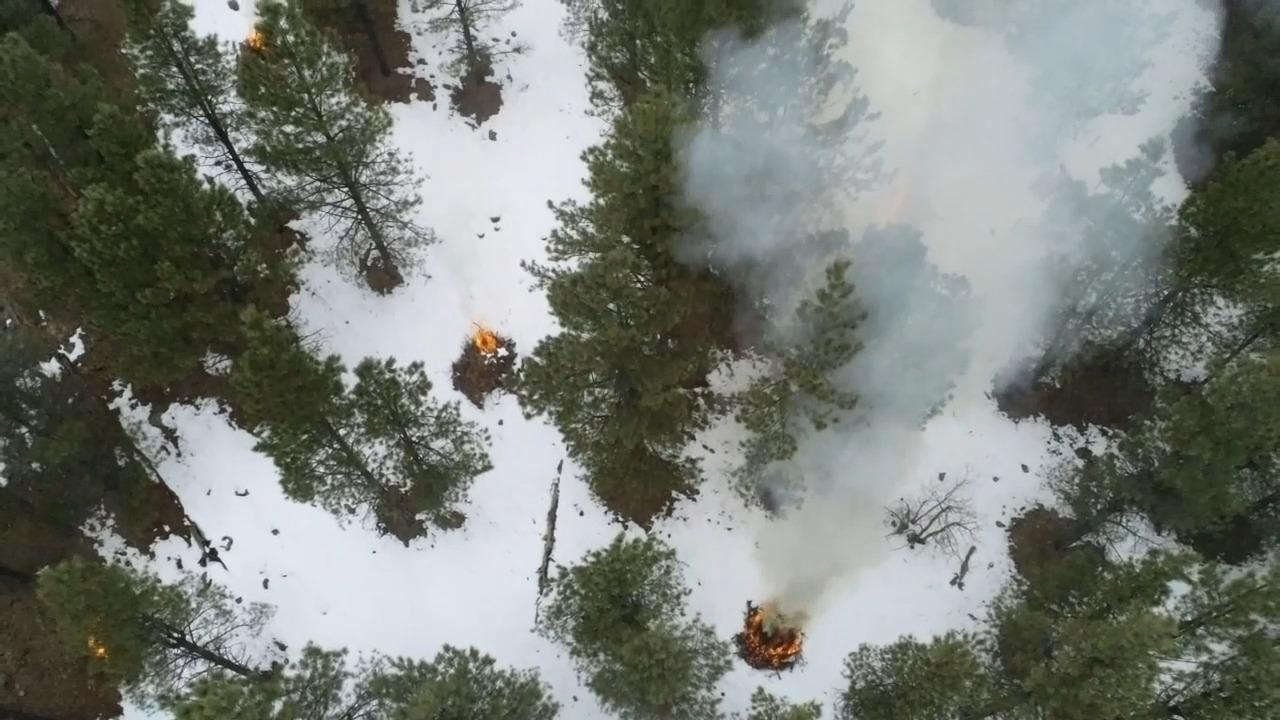fire: (734, 585, 813, 668), (466, 310, 503, 360)
smoke: (818, 0, 1181, 369), (688, 60, 872, 288)
